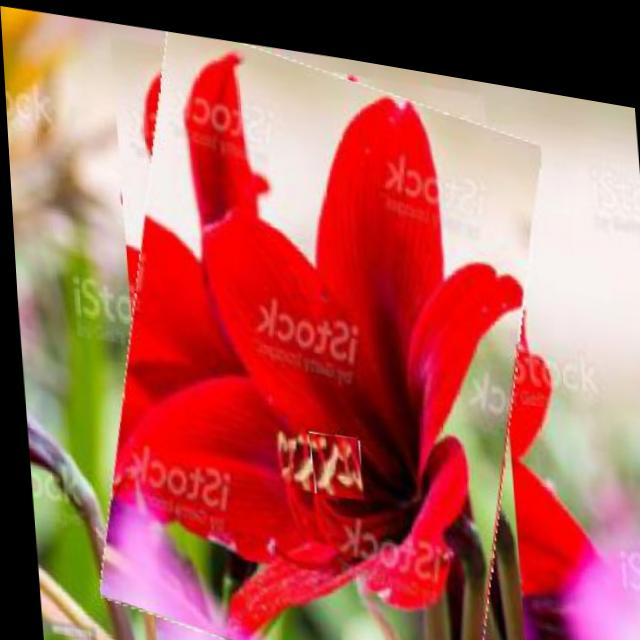Flower: (81, 11, 551, 640), (305, 419, 360, 491)
